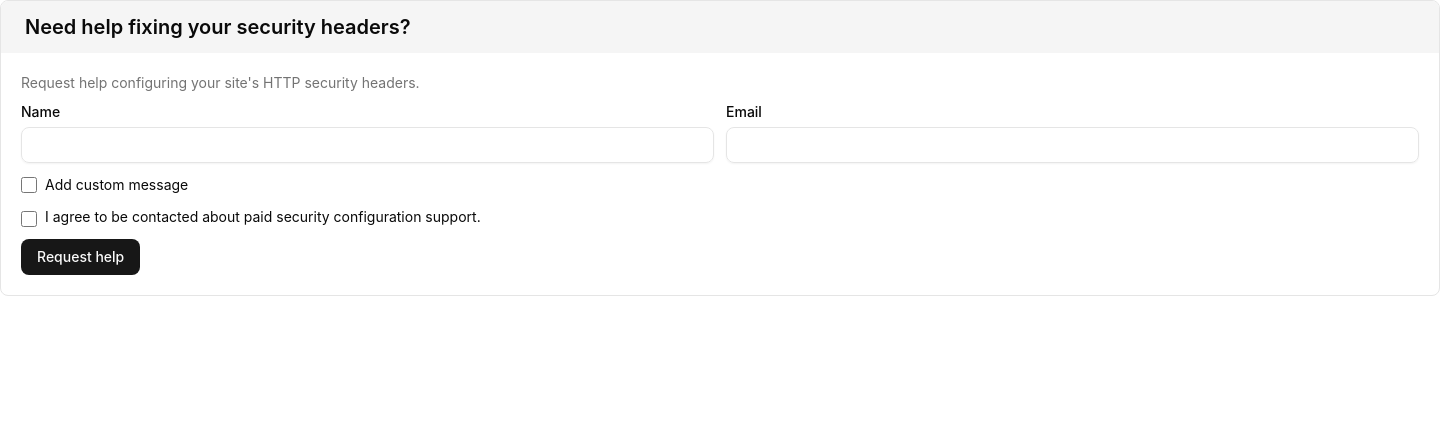
Test: LeadForm › allows only one submission while the request is pending
Type "Ada Lovelace" into the field labelled "Name" at (368, 145), box [21,127,714,163]
Type "ada@example.com" into the field labelled "Email" at (1072, 145), box [726,127,1419,163]
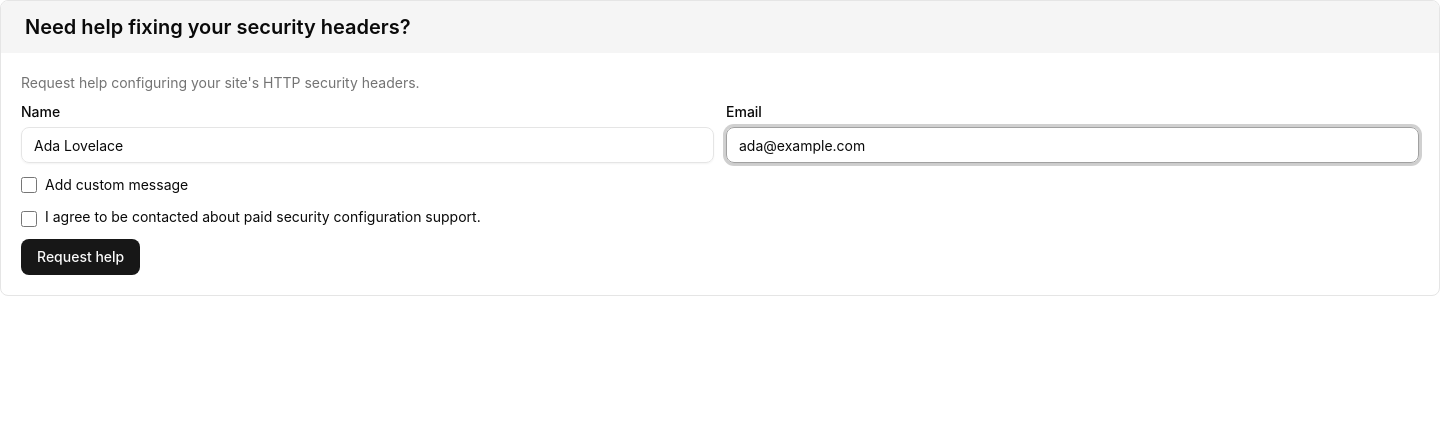
Click the checkbox labelled "Add custom message" at (29, 185), box [21,177,37,193]
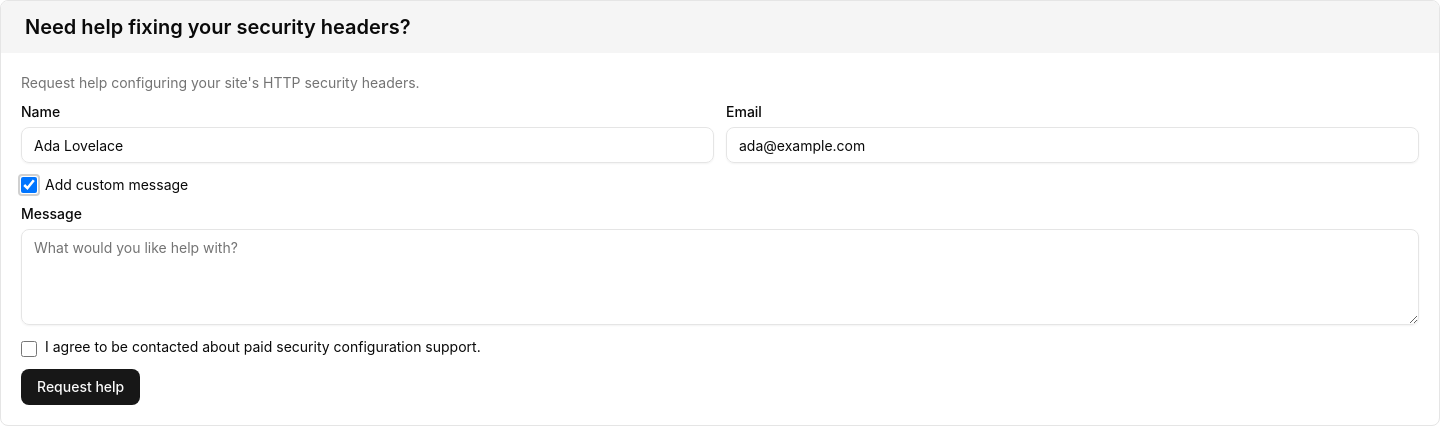
Type "Help with CSP" into the text box labelled "Message" at (720, 277), box [21,229,1419,325]
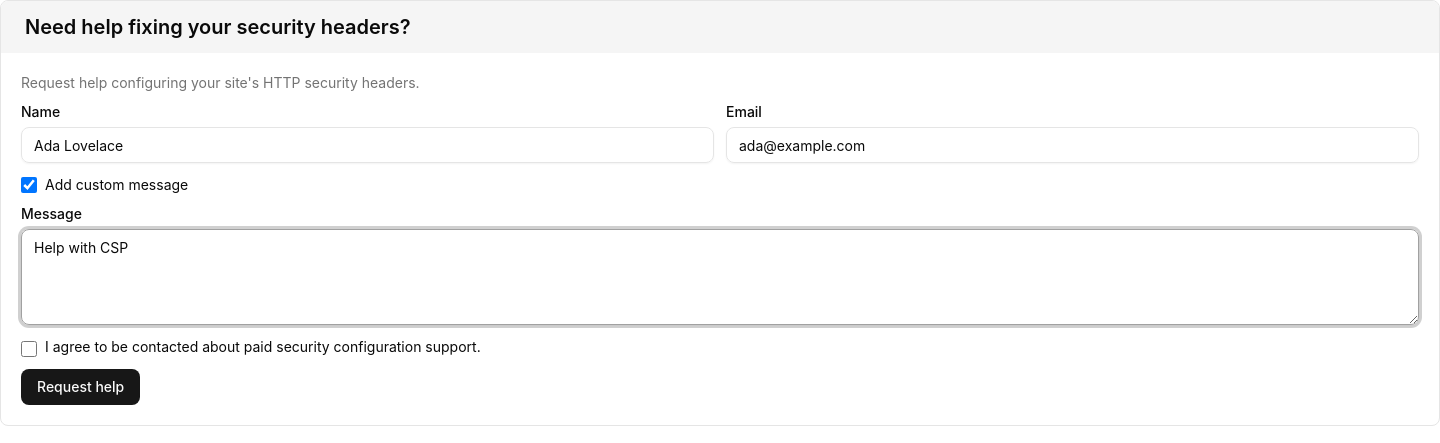
Click the checkbox labelled "I agree to be contacted about paid security configuration support." at (29, 349), box [21,341,37,357]
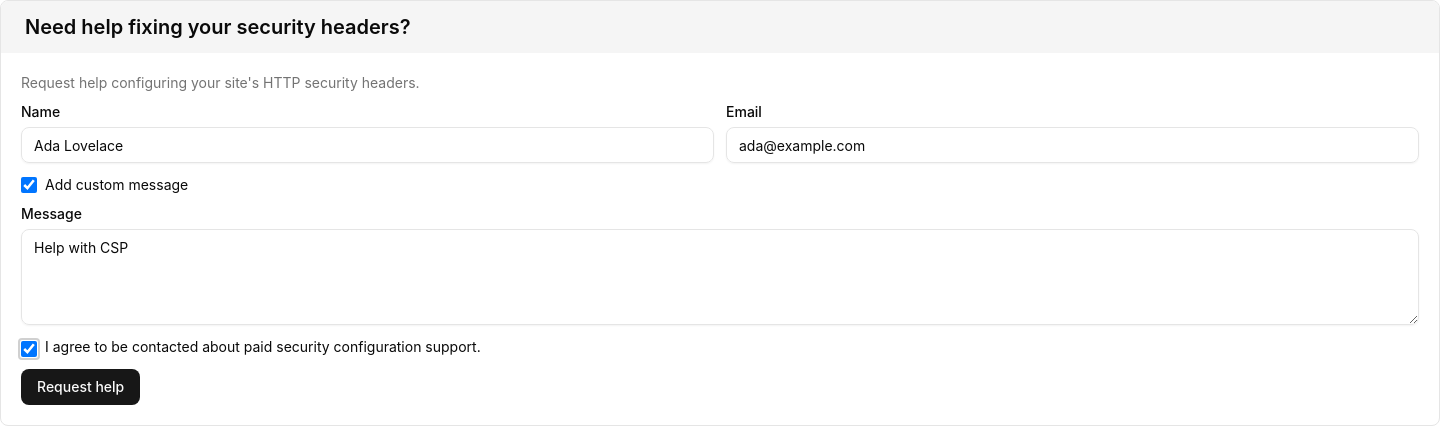
Click the button "Request help" at (81, 387), box [21,369,140,405]
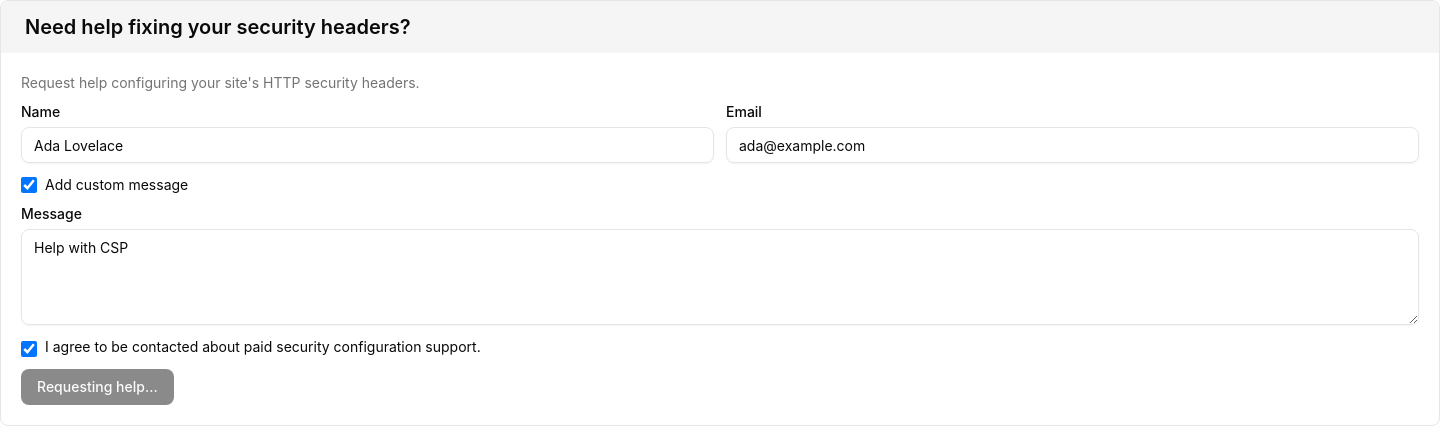
Expected: the button "Requesting help…" is disabled
Click the button "Requesting help…" at (97, 387), box [21,369,174,405]
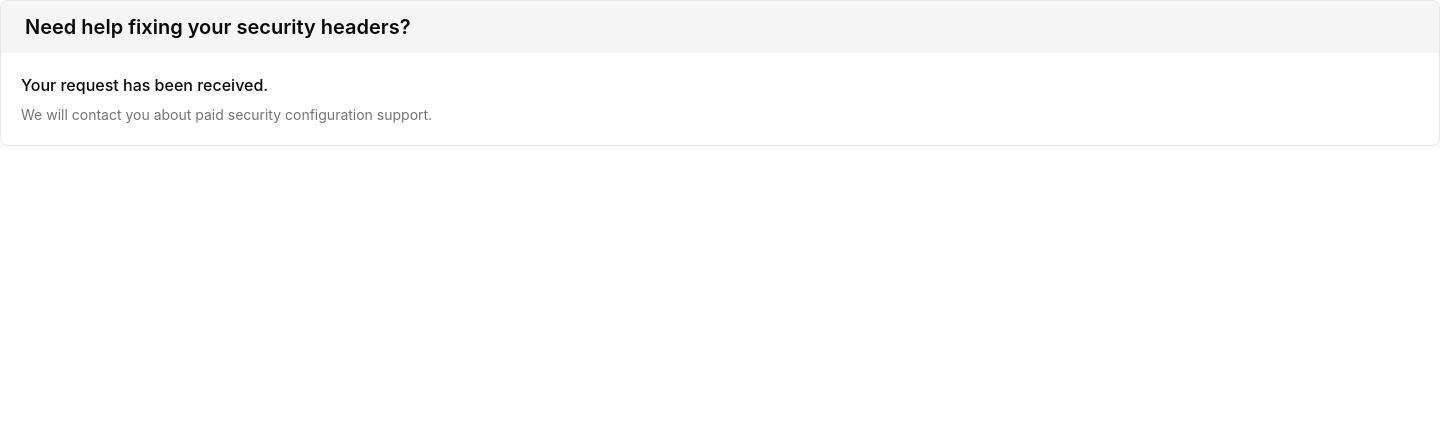
Expected: the text "Your request has been received." is shown, [21,75,268,95]
